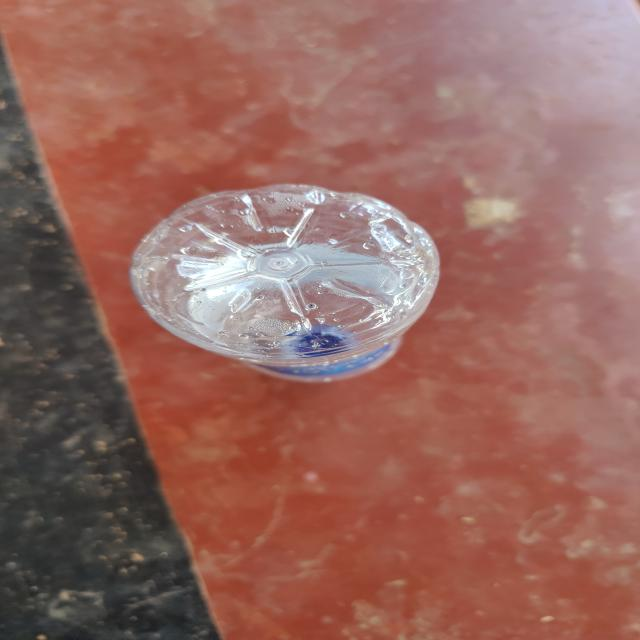plastic: (126, 173, 441, 387)
